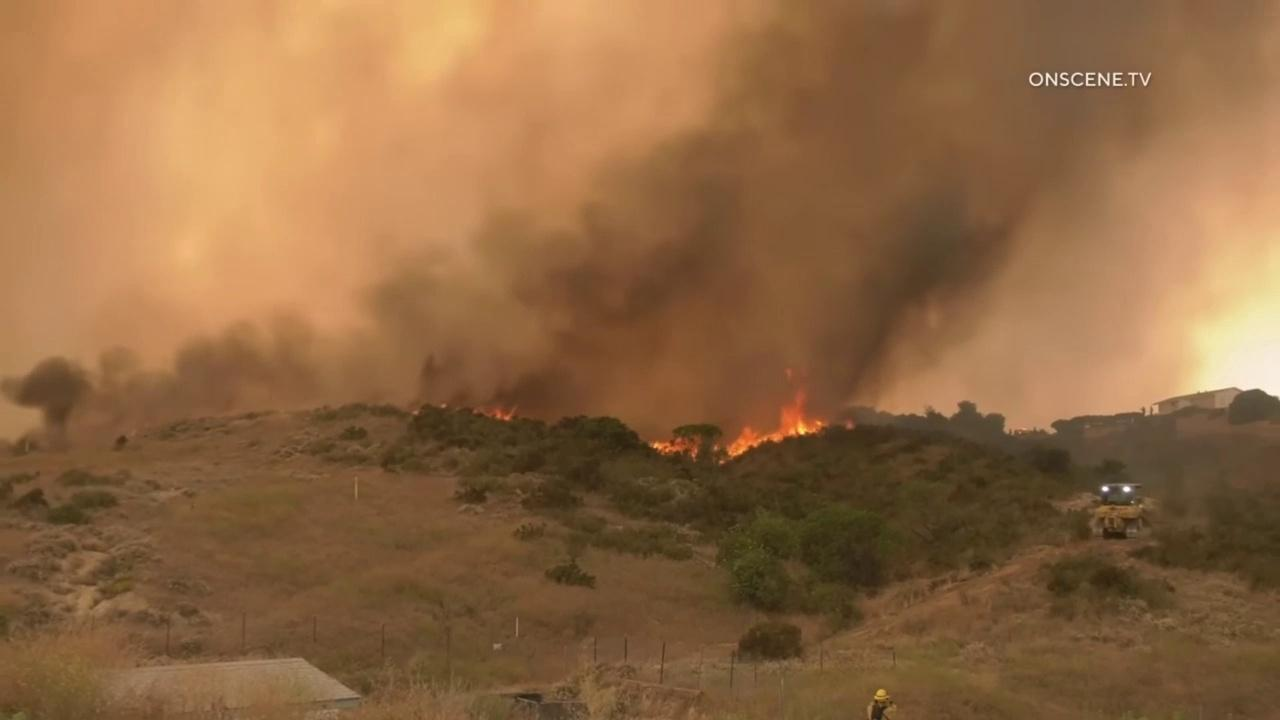fire: (714, 389, 824, 467), (647, 435, 700, 463), (473, 406, 519, 423), (845, 417, 856, 431), (440, 402, 449, 409), (412, 410, 419, 416)
smoke: (0, 0, 1280, 483)
